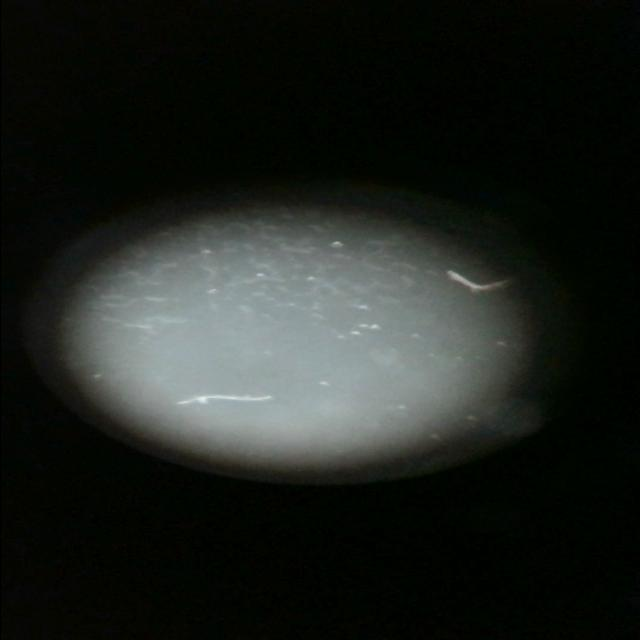psudo-nitzschia: (167, 386, 275, 414), (440, 262, 526, 296)
